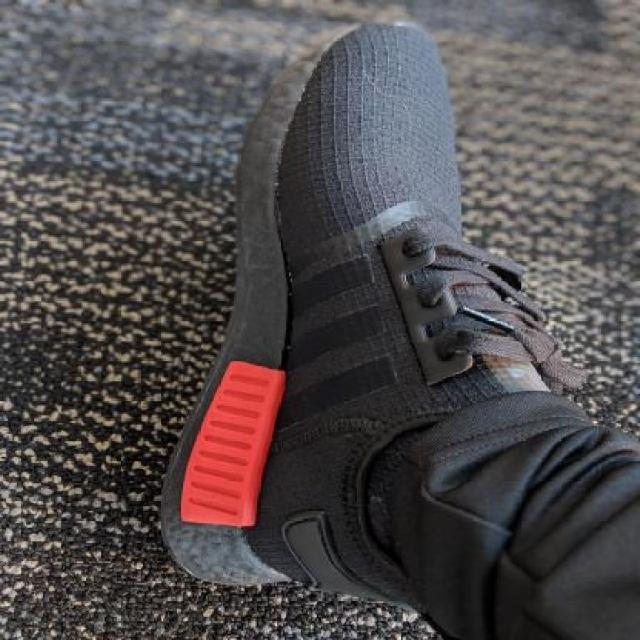shoe: (149, 14, 593, 614)
